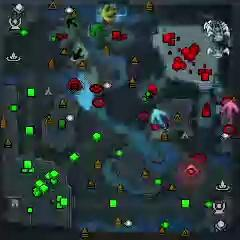x1: (221, 101, 239, 118)
x2: (101, 4, 119, 23)
x3: (151, 109, 166, 126)
x3Clone: (71, 46, 87, 62)
x4: (90, 23, 108, 41)
x4Clone: (64, 15, 78, 30)
